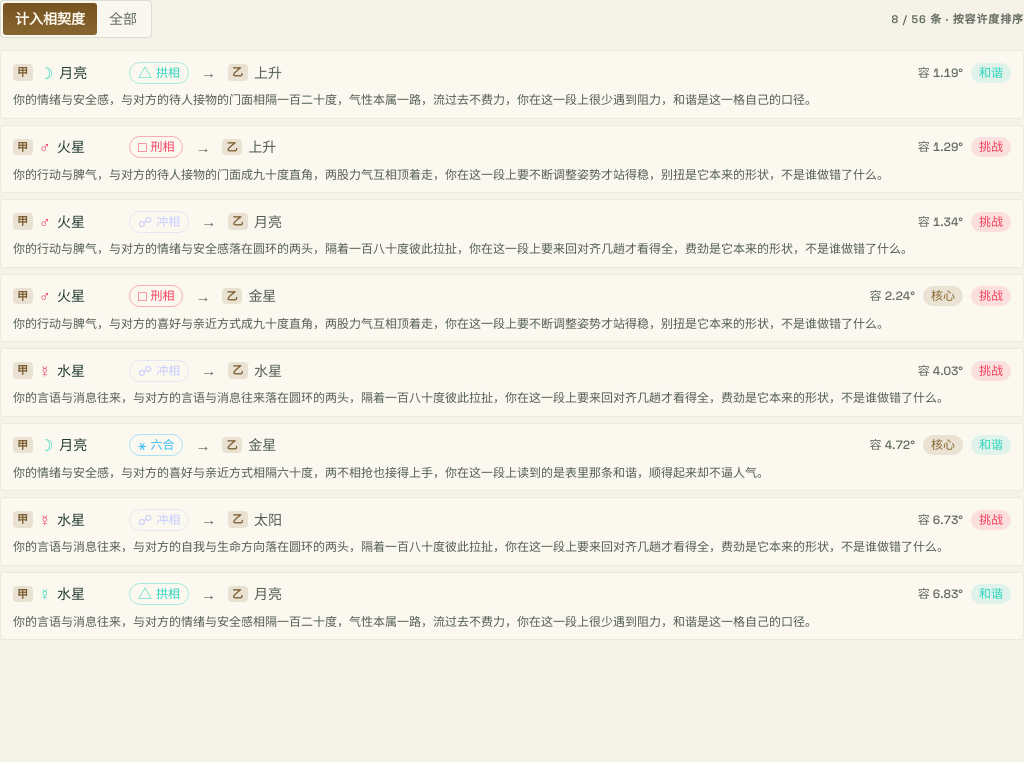
Scenario: SynastryAspectList 的筛选与计数（Task 8B 判据 5） › 切到「全部」变 56 行、切回变 8 行，计数器两个数始终来自 props 长度
What coordinates should you click on to do the following:
click the radio button labelled "全部"
I would click on:
 (123, 19)
Its box is [97,3,149,35].
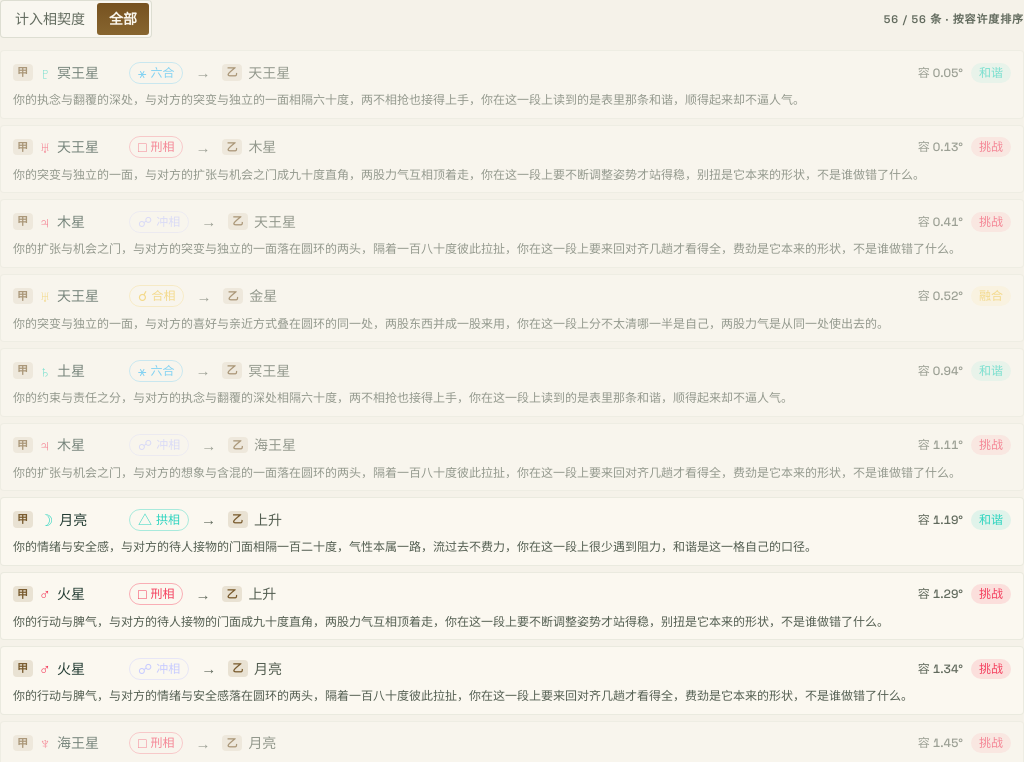
Expected: the text "56 / 56 条 · 按容许度排序" is shown, [884,11,1023,27]
What coordinates should you click on to do the following:
click the radio button labelled "计入相契度"
I would click on:
 (50, 19)
Its box is [3,3,97,35].
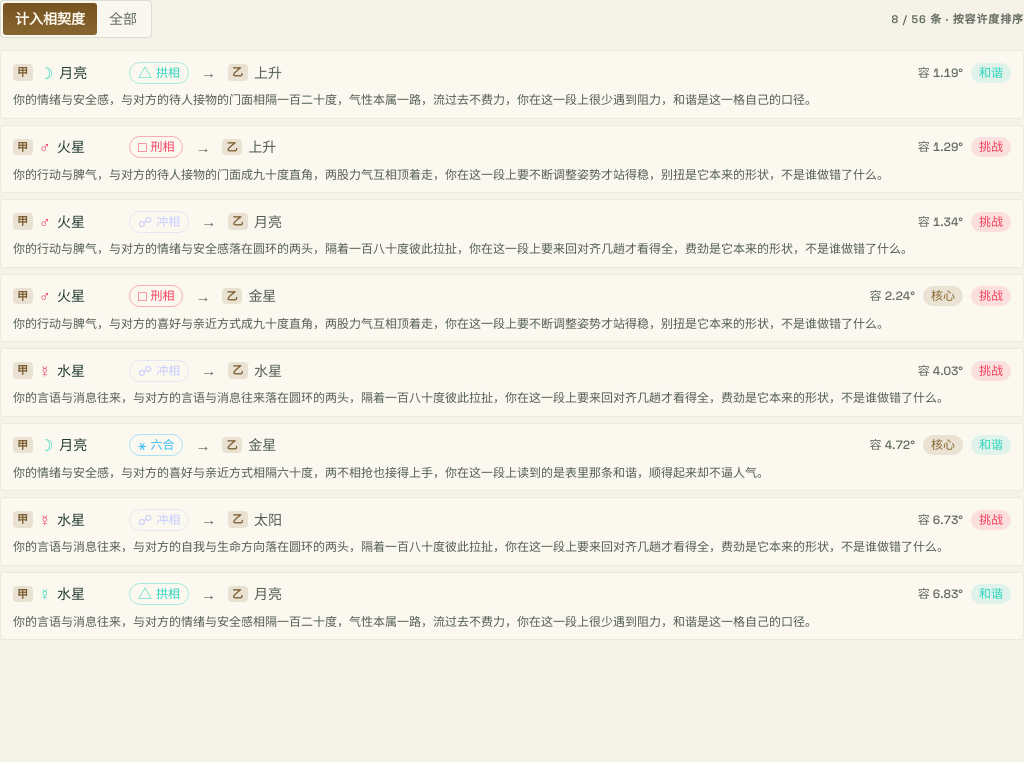
Expected: the text "8 / 56 条 · 按容许度排序" is shown, [891,11,1023,27]
